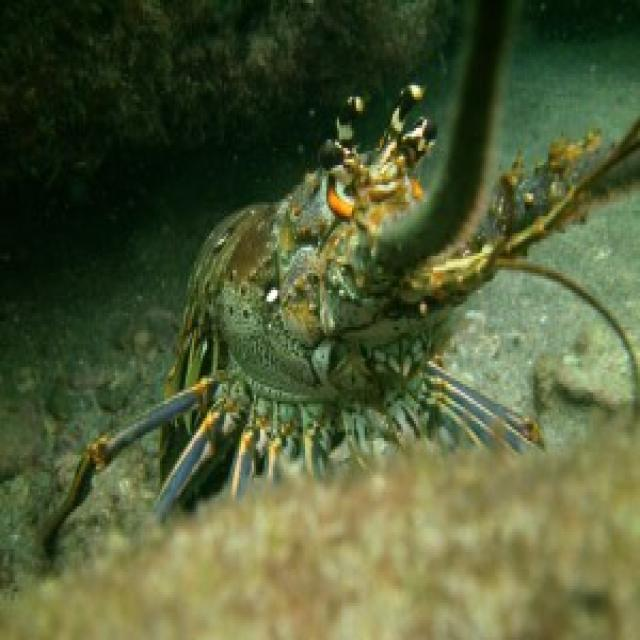lobsters: (146, 77, 548, 514)
